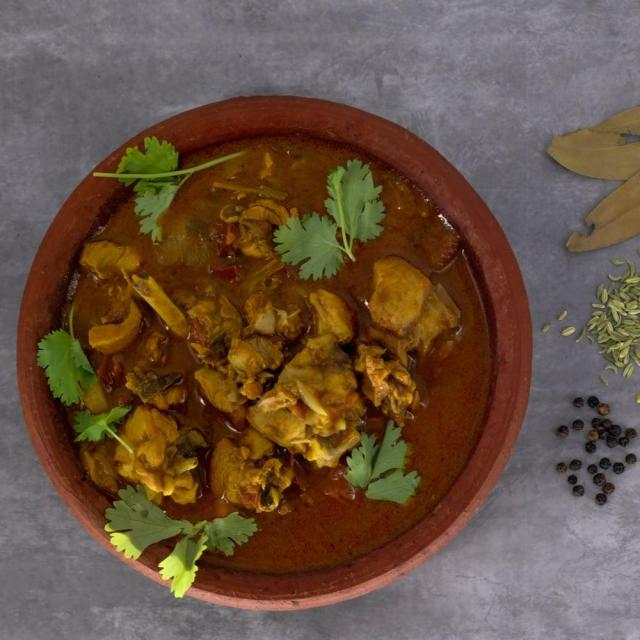chicken: (46, 129, 512, 571)
